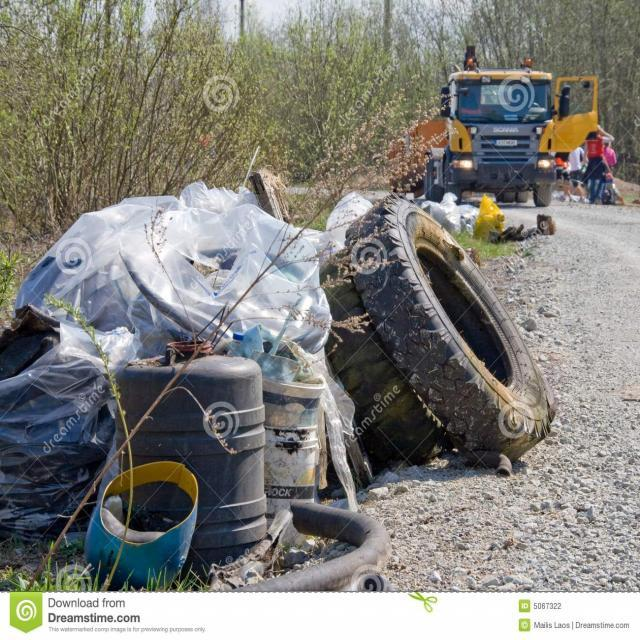plastic: (0, 141, 499, 583)
